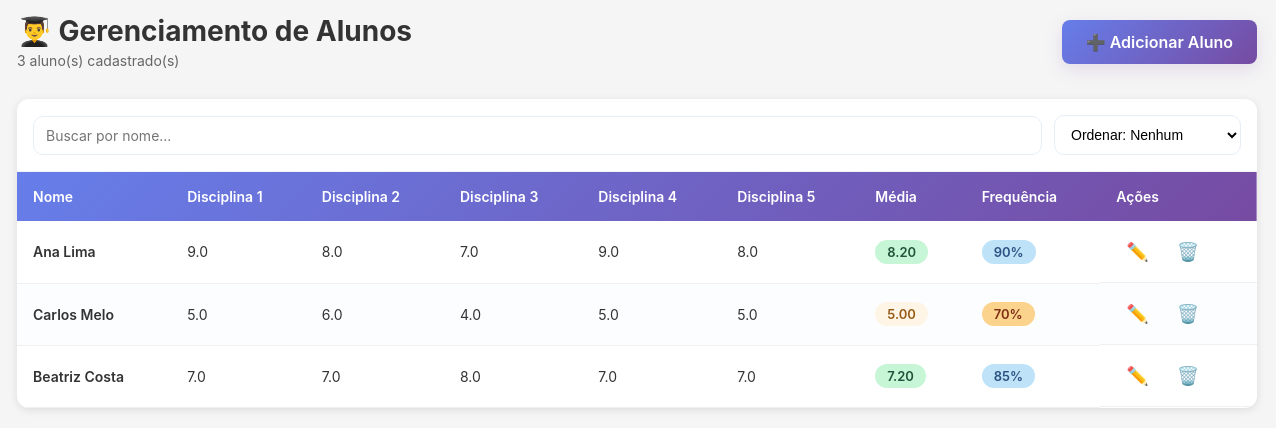
Test: StudentList › filters students by search term
In the field with placeholder "Buscar por nome...": x=538, y=135 [33,116,1042,154], type "Ana"
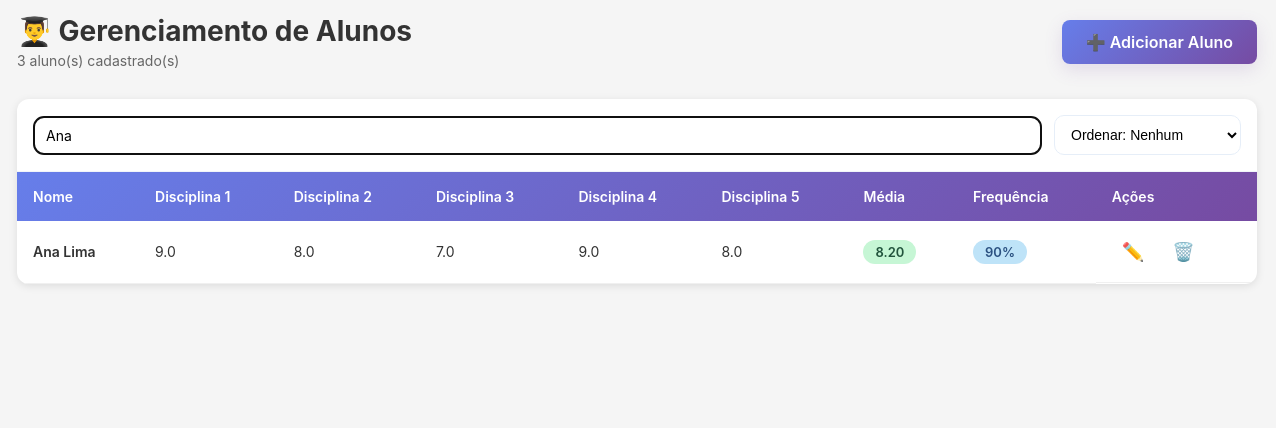
Expected: the text "Ana Lima" is shown, [17,221,139,283]
Now the text "Carlos Melo" is gone
Now the text "Beatriz Costa" is gone
